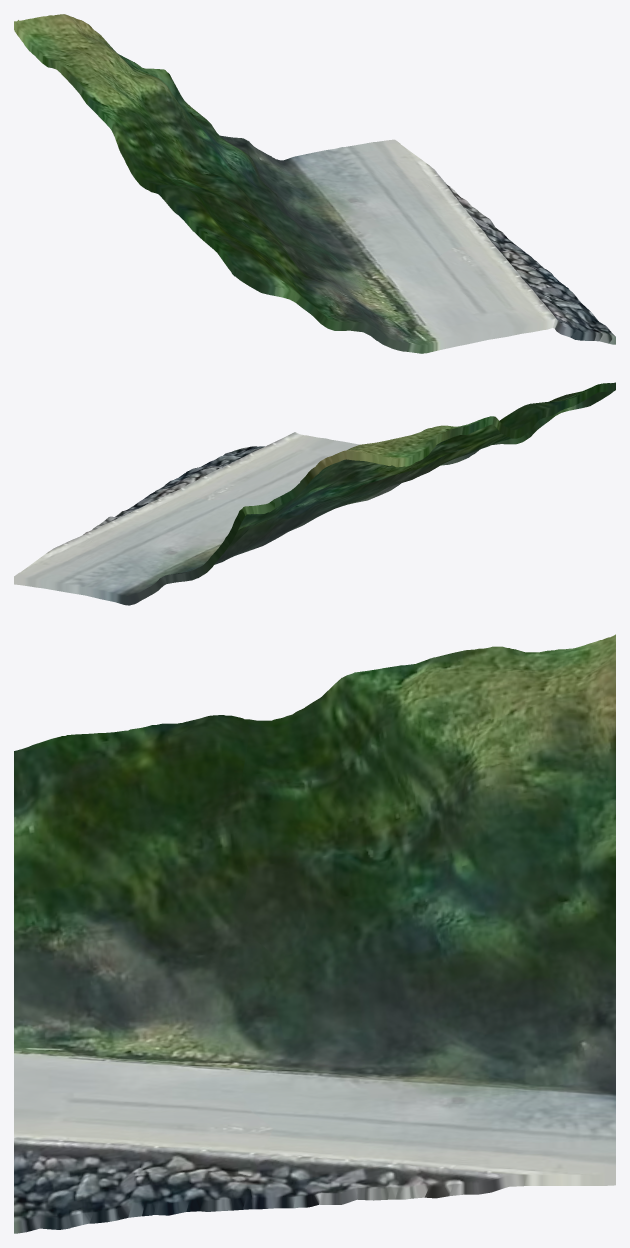
Rendered from z20-167560-405171-h0-yup-uvflip-v3-world.glb.
3 renders of one model, top to bottom at view 1: azimuth 30°, elevation 25°; view 2: azimuth 150°, elevation 25°; view 3: azimuth 270°, elevation 25°, orthographic. The views are drawn at different scales.
Bounding box in the file's own units: 30.16 × 19.28 × 30.32.
Materials: 1 (1 with a texture image).
